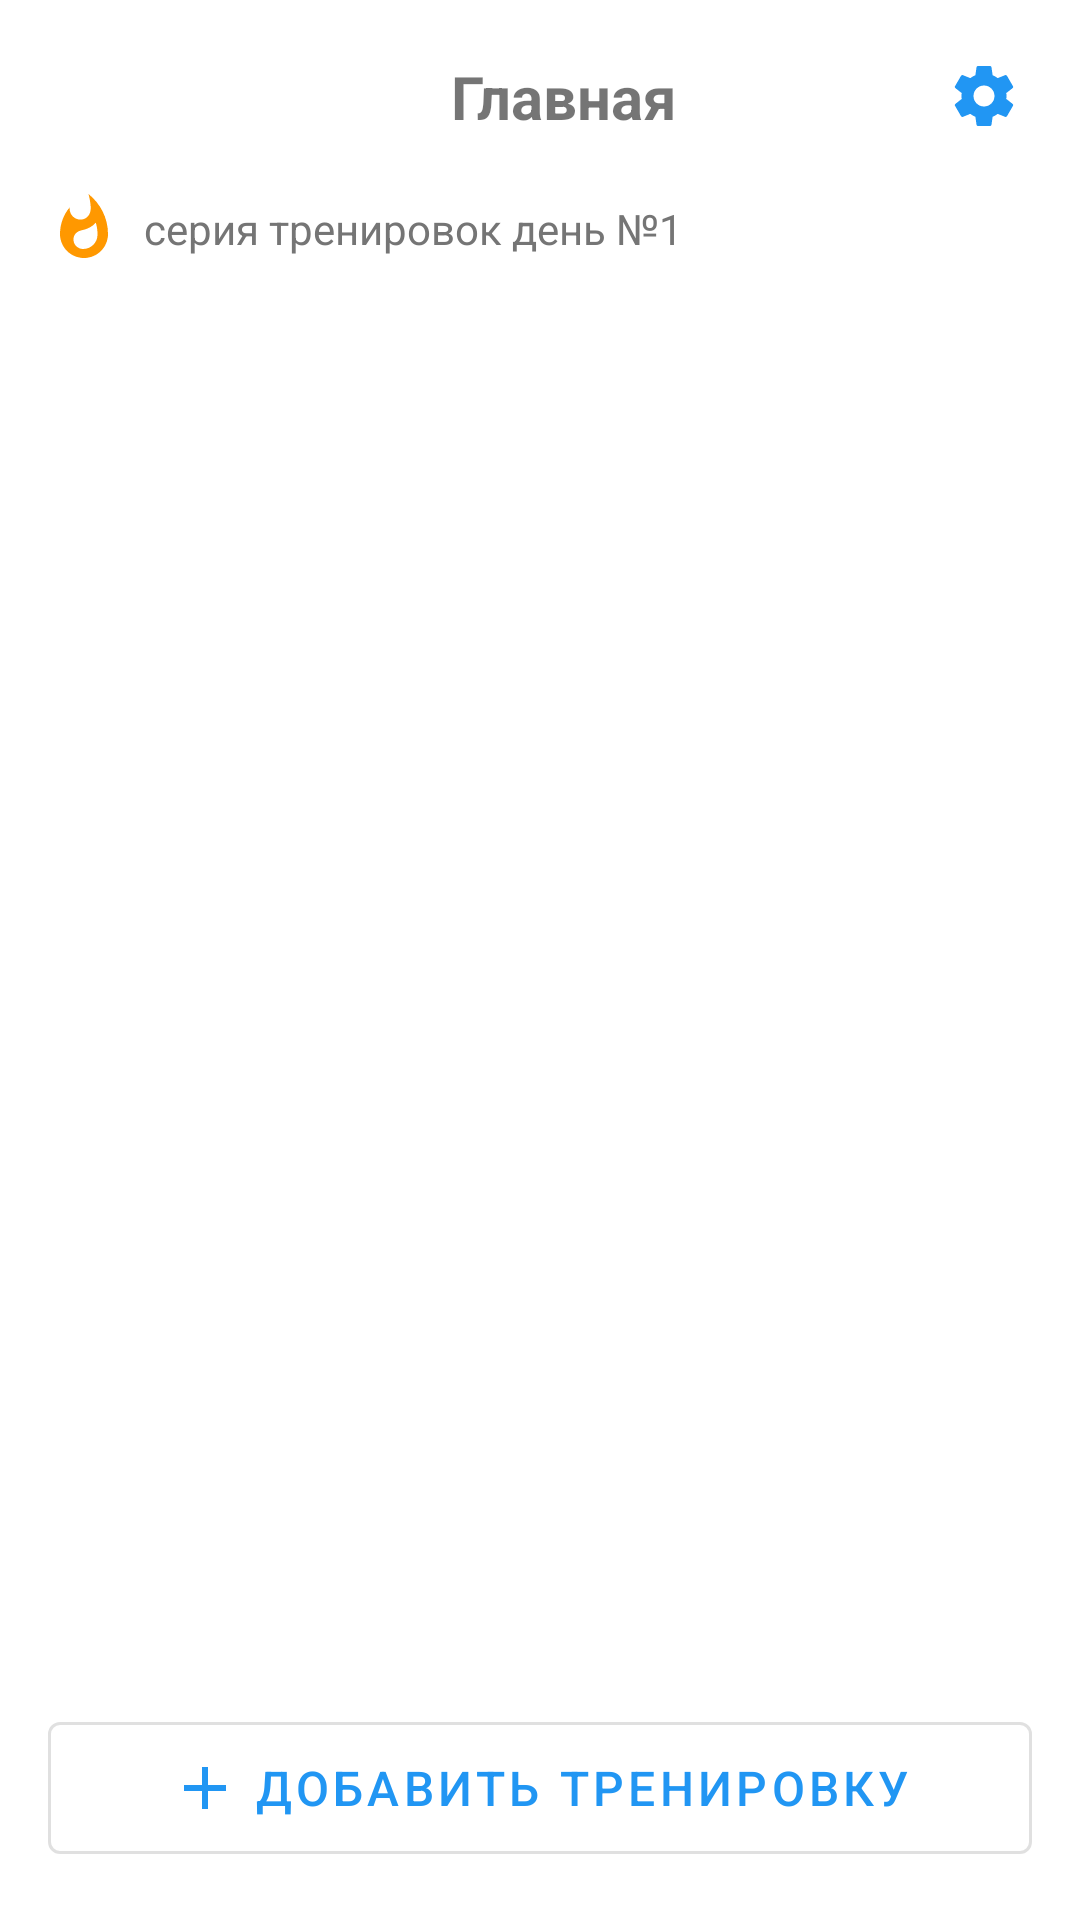

Screen size 1080px x 1920px. Icon name, then its center in pixels as point (x, y):
fire: point (84, 226)
settings: point (983, 96)
